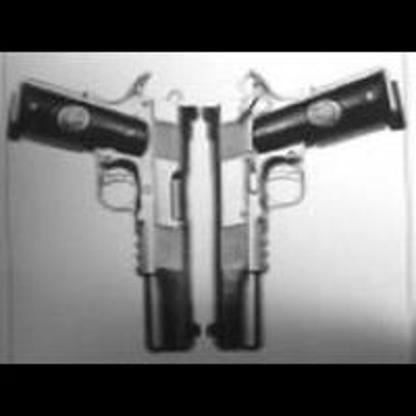weapon: (205, 61, 408, 360), (4, 58, 202, 361)
